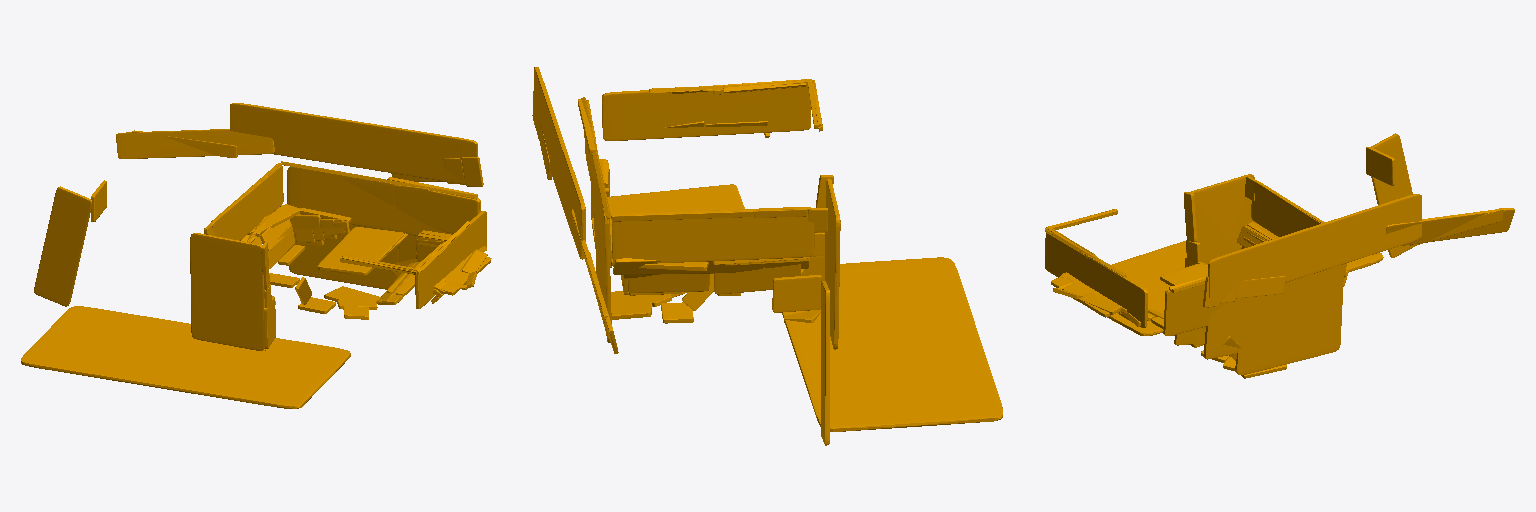
--- Render facts (derived) ---
The picture shows the robot from 3 angles, left to right: view 1: azimuth 30°, elevation 25°; view 2: azimuth 150°, elevation 25°; view 3: azimuth 270°, elevation 25°; orthographic projection.
Model scene with 1 links and 0 joints (none), rooted at scene_link, posed all joints at 0.
Visible links, largest first — view 1: scene_link; view 2: scene_link; view 3: scene_link.
Boxes of the visible links, x1,y1,x2,y2 form: scene_link: [21, 103, 491, 408]; scene_link: [532, 67, 1002, 445]; scene_link: [1045, 133, 1514, 378].
Bounding box of the posed robot: 5.03 × 4.82 × 1.78 m (x, y, z).
Meshes: 85 distinct files referenced, 85 mesh visuals loaded (85 OBJ).

URDF robot description (scene):
<?xml version='1.0' encoding='utf-8'?>
<robot name="scene"><link name="scene_link"><visual><origin xyz="0.000000 0.000000 0.000000" rpy="0.000000 -0.000000 0.000000" /><geometry><mesh filename="part_000.obj" /></geometry></visual><collision><origin xyz="0.000000 0.000000 0.000000" rpy="0.000000 -0.000000 0.000000" /><geometry><mesh filename="part_000.obj" /></geometry></collision><visual><origin xyz="0.000000 0.000000 0.000000" rpy="0.000000 -0.000000 0.000000" /><geometry><mesh filename="part_001.obj" /></geometry></visual><collision><origin xyz="0.000000 0.000000 0.000000" rpy="0.000000 -0.000000 0.000000" /><geometry><mesh filename="part_001.obj" /></geometry></collision><visual><origin xyz="0.000000 0.000000 0.000000" rpy="0.000000 -0.000000 0.000000" /><geometry><mesh filename="part_002.obj" /></geometry></visual><collision><origin xyz="0.000000 0.000000 0.000000" rpy="0.000000 -0.000000 0.000000" /><geometry><mesh filename="part_002.obj" /></geometry></collision><visual><origin xyz="0.000000 0.000000 0.000000" rpy="0.000000 -0.000000 0.000000" /><geometry><mesh filename="part_003.obj" /></geometry></visual><collision><origin xyz="0.000000 0.000000 0.000000" rpy="0.000000 -0.000000 0.000000" /><geometry><mesh filename="part_003.obj" /></geometry></collision><visual><origin xyz="0.000000 0.000000 0.000000" rpy="0.000000 -0.000000 0.000000" /><geometry><mesh filename="part_004.obj" /></geometry></visual><collision><origin xyz="0.000000 0.000000 0.000000" rpy="0.000000 -0.000000 0.000000" /><geometry><mesh filename="part_004.obj" /></geometry></collision><visual><origin xyz="0.000000 0.000000 0.000000" rpy="0.000000 -0.000000 0.000000" /><geometry><mesh filename="part_005.obj" /></geometry></visual><collision><origin xyz="0.000000 0.000000 0.000000" rpy="0.000000 -0.000000 0.000000" /><geometry><mesh filename="part_005.obj" /></geometry></collision><visual><origin xyz="0.000000 0.000000 0.000000" rpy="0.000000 -0.000000 0.000000" /><geometry><mesh filename="part_006.obj" /></geometry></visual><collision><origin xyz="0.000000 0.000000 0.000000" rpy="0.000000 -0.000000 0.000000" /><geometry><mesh filename="part_006.obj" /></geometry></collision><visual><origin xyz="0.000000 0.000000 0.000000" rpy="0.000000 -0.000000 0.000000" /><geometry><mesh filename="part_007.obj" /></geometry></visual><collision><origin xyz="0.000000 0.000000 0.000000" rpy="0.000000 -0.000000 0.000000" /><geometry><mesh filename="part_007.obj" /></geometry></collision><visual><origin xyz="0.000000 0.000000 0.000000" rpy="0.000000 -0.000000 0.000000" /><geometry><mesh filename="part_008.obj" /></geometry></visual><collision><origin xyz="0.000000 0.000000 0.000000" rpy="0.000000 -0.000000 0.000000" /><geometry><mesh filename="part_008.obj" /></geometry></collision><visual><origin xyz="0.000000 0.000000 0.000000" rpy="0.000000 -0.000000 0.000000" /><geometry><mesh filename="part_009.obj" /></geometry></visual><collision><origin xyz="0.000000 0.000000 0.000000" rpy="0.000000 -0.000000 0.000000" /><geometry><mesh filename="part_009.obj" /></geometry></collision><visual><origin xyz="0.000000 0.000000 0.000000" rpy="0.000000 -0.000000 0.000000" /><geometry><mesh filename="part_010.obj" /></geometry></visual><collision><origin xyz="0.000000 0.000000 0.000000" rpy="0.000000 -0.000000 0.000000" /><geometry><mesh filename="part_010.obj" /></geometry></collision><visual><origin xyz="0.000000 0.000000 0.000000" rpy="0.000000 -0.000000 0.000000" /><geometry><mesh filename="part_011.obj" /></geometry></visual><collision><origin xyz="0.000000 0.000000 0.000000" rpy="0.000000 -0.000000 0.000000" /><geometry><mesh filename="part_011.obj" /></geometry></collision><visual><origin xyz="0.000000 0.000000 0.000000" rpy="0.000000 -0.000000 0.000000" /><geometry><mesh filename="part_012.obj" /></geometry></visual><collision><origin xyz="0.000000 0.000000 0.000000" rpy="0.000000 -0.000000 0.000000" /><geometry><mesh filename="part_012.obj" /></geometry></collision><visual><origin xyz="0.000000 0.000000 0.000000" rpy="0.000000 -0.000000 0.000000" /><geometry><mesh filename="part_013.obj" /></geometry></visual><collision><origin xyz="0.000000 0.000000 0.000000" rpy="0.000000 -0.000000 0.000000" /><geometry><mesh filename="part_013.obj" /></geometry></collision><visual><origin xyz="0.000000 0.000000 0.000000" rpy="0.000000 -0.000000 0.000000" /><geometry><mesh filename="part_014.obj" /></geometry></visual><collision><origin xyz="0.000000 0.000000 0.000000" rpy="0.000000 -0.000000 0.000000" /><geometry><mesh filename="part_014.obj" /></geometry></collision><visual><origin xyz="0.000000 0.000000 0.000000" rpy="0.000000 -0.000000 0.000000" /><geometry><mesh filename="part_015.obj" /></geometry></visual><collision><origin xyz="0.000000 0.000000 0.000000" rpy="0.000000 -0.000000 0.000000" /><geometry><mesh filename="part_015.obj" /></geometry></collision><visual><origin xyz="0.000000 0.000000 0.000000" rpy="0.000000 -0.000000 0.000000" /><geometry><mesh filename="part_016.obj" /></geometry></visual><collision><origin xyz="0.000000 0.000000 0.000000" rpy="0.000000 -0.000000 0.000000" /><geometry><mesh filename="part_016.obj" /></geometry></collision><visual><origin xyz="0.000000 0.000000 0.000000" rpy="0.000000 -0.000000 0.000000" /><geometry><mesh filename="part_017.obj" /></geometry></visual><collision><origin xyz="0.000000 0.000000 0.000000" rpy="0.000000 -0.000000 0.000000" /><geometry><mesh filename="part_017.obj" /></geometry></collision><visual><origin xyz="0.000000 0.000000 0.000000" rpy="0.000000 -0.000000 0.000000" /><geometry><mesh filename="part_018.obj" /></geometry></visual><collision><origin xyz="0.000000 0.000000 0.000000" rpy="0.000000 -0.000000 0.000000" /><geometry><mesh filename="part_018.obj" /></geometry></collision><visual><origin xyz="0.000000 0.000000 0.000000" rpy="0.000000 -0.000000 0.000000" /><geometry><mesh filename="part_019.obj" /></geometry></visual><collision><origin xyz="0.000000 0.000000 0.000000" rpy="0.000000 -0.000000 0.000000" /><geometry><mesh filename="part_019.obj" /></geometry></collision><visual><origin xyz="0.000000 0.000000 0.000000" rpy="0.000000 -0.000000 0.000000" /><geometry><mesh filename="part_020.obj" /></geometry></visual><collision><origin xyz="0.000000 0.000000 0.000000" rpy="0.000000 -0.000000 0.000000" /><geometry><mesh filename="part_020.obj" /></geometry></collision><visual><origin xyz="0.000000 0.000000 0.000000" rpy="0.000000 -0.000000 0.000000" /><geometry><mesh filename="part_021.obj" /></geometry></visual><collision><origin xyz="0.000000 0.000000 0.000000" rpy="0.000000 -0.000000 0.000000" /><geometry><mesh filename="part_021.obj" /></geometry></collision><visual><origin xyz="0.000000 0.000000 0.000000" rpy="0.000000 -0.000000 0.000000" /><geometry><mesh filename="part_022.obj" /></geometry></visual><collision><origin xyz="0.000000 0.000000 0.000000" rpy="0.000000 -0.000000 0.000000" /><geometry><mesh filename="part_022.obj" /></geometry></collision><visual><origin xyz="0.000000 0.000000 0.000000" rpy="0.000000 -0.000000 0.000000" /><geometry><mesh filename="part_023.obj" /></geometry></visual><collision><origin xyz="0.000000 0.000000 0.000000" rpy="0.000000 -0.000000 0.000000" /><geometry><mesh filename="part_023.obj" /></geometry></collision><visual><origin xyz="0.000000 0.000000 0.000000" rpy="0.000000 -0.000000 0.000000" /><geometry><mesh filename="part_024.obj" /></geometry></visual><collision><origin xyz="0.000000 0.000000 0.000000" rpy="0.000000 -0.000000 0.000000" /><geometry><mesh filename="part_024.obj" /></geometry></collision><visual><origin xyz="0.000000 0.000000 0.000000" rpy="0.000000 -0.000000 0.000000" /><geometry><mesh filename="part_025.obj" /></geometry></visual><collision><origin xyz="0.000000 0.000000 0.000000" rpy="0.000000 -0.000000 0.000000" /><geometry><mesh filename="part_025.obj" /></geometry></collision><visual><origin xyz="0.000000 0.000000 0.000000" rpy="0.000000 -0.000000 0.000000" /><geometry><mesh filename="part_026.obj" /></geometry></visual><collision><origin xyz="0.000000 0.000000 0.000000" rpy="0.000000 -0.000000 0.000000" /><geometry><mesh filename="part_026.obj" /></geometry></collision><visual><origin xyz="0.000000 0.000000 0.000000" rpy="0.000000 -0.000000 0.000000" /><geometry><mesh filename="part_027.obj" /></geometry></visual><collision><origin xyz="0.000000 0.000000 0.000000" rpy="0.000000 -0.000000 0.000000" /><geometry><mesh filename="part_027.obj" /></geometry></collision><visual><origin xyz="0.000000 0.000000 0.000000" rpy="0.000000 -0.000000 0.000000" /><geometry><mesh filename="part_028.obj" /></geometry></visual><collision><origin xyz="0.000000 0.000000 0.000000" rpy="0.000000 -0.000000 0.000000" /><geometry><mesh filename="part_028.obj" /></geometry></collision><visual><origin xyz="0.000000 0.000000 0.000000" rpy="0.000000 -0.000000 0.000000" /><geometry><mesh filename="part_029.obj" /></geometry></visual><collision><origin xyz="0.000000 0.000000 0.000000" rpy="0.000000 -0.000000 0.000000" /><geometry><mesh filename="part_029.obj" /></geometry></collision><visual><origin xyz="0.000000 0.000000 0.000000" rpy="0.000000 -0.000000 0.000000" /><geometry><mesh filename="part_030.obj" /></geometry></visual><collision><origin xyz="0.000000 0.000000 0.000000" rpy="0.000000 -0.000000 0.000000" /><geometry><mesh filename="part_030.obj" /></geometry></collision><visual><origin xyz="0.000000 0.000000 0.000000" rpy="0.000000 -0.000000 0.000000" /><geometry><mesh filename="part_031.obj" /></geometry></visual><collision><origin xyz="0.000000 0.000000 0.000000" rpy="0.000000 -0.000000 0.000000" /><geometry><mesh filename="part_031.obj" /></geometry></collision><visual><origin xyz="0.000000 0.000000 0.000000" rpy="0.000000 -0.000000 0.000000" /><geometry><mesh filename="part_032.obj" /></geometry></visual><collision><origin xyz="0.000000 0.000000 0.000000" rpy="0.000000 -0.000000 0.000000" /><geometry><mesh filename="part_032.obj" /></geometry></collision><visual><origin xyz="0.000000 0.000000 0.000000" rpy="0.000000 -0.000000 0.000000" /><geometry><mesh filename="part_033.obj" /></geometry></visual><collision><origin xyz="0.000000 0.000000 0.000000" rpy="0.000000 -0.000000 0.000000" /><geometry><mesh filename="part_033.obj" /></geometry></collision><visual><origin xyz="0.000000 0.000000 0.000000" rpy="0.000000 -0.000000 0.000000" /><geometry><mesh filename="part_034.obj" /></geometry></visual><collision><origin xyz="0.000000 0.000000 0.000000" rpy="0.000000 -0.000000 0.000000" /><geometry><mesh filename="part_034.obj" /></geometry></collision><visual><origin xyz="0.000000 0.000000 0.000000" rpy="0.000000 -0.000000 0.000000" /><geometry><mesh filename="part_035.obj" /></geometry></visual><collision><origin xyz="0.000000 0.000000 0.000000" rpy="0.000000 -0.000000 0.000000" /><geometry><mesh filename="part_035.obj" /></geometry></collision><visual><origin xyz="0.000000 0.000000 0.000000" rpy="0.000000 -0.000000 0.000000" /><geometry><mesh filename="part_036.obj" /></geometry></visual><collision><origin xyz="0.000000 0.000000 0.000000" rpy="0.000000 -0.000000 0.000000" /><geometry><mesh filename="part_036.obj" /></geometry></collision><visual><origin xyz="0.000000 0.000000 0.000000" rpy="0.000000 -0.000000 0.000000" /><geometry><mesh filename="part_037.obj" /></geometry></visual><collision><origin xyz="0.000000 0.000000 0.000000" rpy="0.000000 -0.000000 0.000000" /><geometry><mesh filename="part_037.obj" /></geometry></collision><visual><origin xyz="0.000000 0.000000 0.000000" rpy="0.000000 -0.000000 0.000000" /><geometry><mesh filename="part_038.obj" /></geometry></visual><collision><origin xyz="0.000000 0.000000 0.000000" rpy="0.000000 -0.000000 0.000000" /><geometry><mesh filename="part_038.obj" /></geometry></collision><visual><origin xyz="0.000000 0.000000 0.000000" rpy="0.000000 -0.000000 0.000000" /><geometry><mesh filename="part_039.obj" /></geometry></visual><collision><origin xyz="0.000000 0.000000 0.000000" rpy="0.000000 -0.000000 0.000000" /><geometry><mesh filename="part_039.obj" /></geometry></collision><visual><origin xyz="0.000000 0.000000 0.000000" rpy="0.000000 -0.000000 0.000000" /><geometry><mesh filename="part_040.obj" /></geometry></visual><collision><origin xyz="0.000000 0.000000 0.000000" rpy="0.000000 -0.000000 0.000000" /><geometry><mesh filename="part_040.obj" /></geometry></collision><visual><origin xyz="0.000000 0.000000 0.000000" rpy="0.000000 -0.000000 0.000000" /><geometry><mesh filename="part_041.obj" /></geometry></visual><collision><origin xyz="0.000000 0.000000 0.000000" rpy="0.000000 -0.000000 0.000000" /><geometry><mesh filename="part_041.obj" /></geometry></collision><visual><origin xyz="0.000000 0.000000 0.000000" rpy="0.000000 -0.000000 0.000000" /><geometry><mesh filename="part_042.obj" /></geometry></visual><collision><origin xyz="0.000000 0.000000 0.000000" rpy="0.000000 -0.000000 0.000000" /><geometry><mesh filename="part_042.obj" /></geometry></collision><visual><origin xyz="0.000000 0.000000 0.000000" rpy="0.000000 -0.000000 0.000000" /><geometry><mesh filename="part_043.obj" /></geometry></visual><collision><origin xyz="0.000000 0.000000 0.000000" rpy="0.000000 -0.000000 0.000000" /><geometry><mesh filename="part_043.obj" /></geometry></collision><visual><origin xyz="0.000000 0.000000 0.000000" rpy="0.000000 -0.000000 0.000000" /><geometry><mesh filename="part_044.obj" /></geometry></visual><collision><origin xyz="0.000000 0.000000 0.000000" rpy="0.000000 -0.000000 0.000000" /><geometry><mesh filename="part_044.obj" /></geometry></collision><visual><origin xyz="0.000000 0.000000 0.000000" rpy="0.000000 -0.000000 0.000000" /><geometry><mesh filename="part_045.obj" /></geometry></visual><collision><origin xyz="0.000000 0.000000 0.000000" rpy="0.000000 -0.000000 0.000000" /><geometry><mesh filename="part_045.obj" /></geometry></collision><visual><origin xyz="0.000000 0.000000 0.000000" rpy="0.000000 -0.000000 0.000000" /><geometry><mesh filename="part_046.obj" /></geometry></visual><collision><origin xyz="0.000000 0.000000 0.000000" rpy="0.000000 -0.000000 0.000000" /><geometry><mesh filename="part_046.obj" /></geometry></collision><visual><origin xyz="0.000000 0.000000 0.000000" rpy="0.000000 -0.000000 0.000000" /><geometry><mesh filename="part_047.obj" /></geometry></visual><collision><origin xyz="0.000000 0.000000 0.000000" rpy="0.000000 -0.000000 0.000000" /><geometry><mesh filename="part_047.obj" /></geometry></collision><visual><origin xyz="0.000000 0.000000 0.000000" rpy="0.000000 -0.000000 0.000000" /><geometry><mesh filename="part_048.obj" /></geometry></visual><collision><origin xyz="0.000000 0.000000 0.000000" rpy="0.000000 -0.000000 0.000000" /><geometry><mesh filename="part_048.obj" /></geometry></collision><visual><origin xyz="0.000000 0.000000 0.000000" rpy="0.000000 -0.000000 0.000000" /><geometry><mesh filename="part_049.obj" /></geometry></visual><collision><origin xyz="0.000000 0.000000 0.000000" rpy="0.000000 -0.000000 0.000000" /><geometry><mesh filename="part_049.obj" /></geometry></collision><visual><origin xyz="0.000000 0.000000 0.000000" rpy="0.000000 -0.000000 0.000000" /><geometry><mesh filename="part_050.obj" /></geometry></visual><collision><origin xyz="0.000000 0.000000 0.000000" rpy="0.000000 -0.000000 0.000000" /><geometry><mesh filename="part_050.obj" /></geometry></collision><visual><origin xyz="0.000000 0.000000 0.000000" rpy="0.000000 -0.000000 0.000000" /><geometry><mesh filename="part_051.obj" /></geometry></visual><collision><origin xyz="0.000000 0.000000 0.000000" rpy="0.000000 -0.000000 0.000000" /><geometry><mesh filename="part_051.obj" /></geometry></collision><visual><origin xyz="0.000000 0.000000 0.000000" rpy="0.000000 -0.000000 0.000000" /><geometry><mesh filename="part_052.obj" /></geometry></visual><collision><origin xyz="0.000000 0.000000 0.000000" rpy="0.000000 -0.000000 0.000000" /><geometry><mesh filename="part_052.obj" /></geometry></collision><visual><origin xyz="0.000000 0.000000 0.000000" rpy="0.000000 -0.000000 0.000000" /><geometry><mesh filename="part_053.obj" /></geometry></visual><collision><origin xyz="0.000000 0.000000 0.000000" rpy="0.000000 -0.000000 0.000000" /><geometry><mesh filename="part_053.obj" /></geometry></collision><visual><origin xyz="0.000000 0.000000 0.000000" rpy="0.000000 -0.000000 0.000000" /><geometry><mesh filename="part_054.obj" /></geometry></visual><collision><origin xyz="0.000000 0.000000 0.000000" rpy="0.000000 -0.000000 0.000000" /><geometry><mesh filename="part_054.obj" /></geometry></collision><visual><origin xyz="0.000000 0.000000 0.000000" rpy="0.000000 -0.000000 0.000000" /><geometry><mesh filename="part_055.obj" /></geometry></visual><collision><origin xyz="0.000000 0.000000 0.000000" rpy="0.000000 -0.000000 0.000000" /><geometry><mesh filename="part_055.obj" /></geometry></collision><visual><origin xyz="0.000000 0.000000 0.000000" rpy="0.000000 -0.000000 0.000000" /><geometry><mesh filename="part_056.obj" /></geometry></visual><collision><origin xyz="0.000000 0.000000 0.000000" rpy="0.000000 -0.000000 0.000000" /><geometry><mesh filename="part_056.obj" /></geometry></collision><visual><origin xyz="0.000000 0.000000 0.000000" rpy="0.000000 -0.000000 0.000000" /><geometry><mesh filename="part_057.obj" /></geometry></visual><collision><origin xyz="0.000000 0.000000 0.000000" rpy="0.000000 -0.000000 0.000000" /><geometry><mesh filename="part_057.obj" /></geometry></collision><visual><origin xyz="0.000000 0.000000 0.000000" rpy="0.000000 -0.000000 0.000000" /><geometry><mesh filename="part_058.obj" /></geometry></visual><collision><origin xyz="0.000000 0.000000 0.000000" rpy="0.000000 -0.000000 0.000000" /><geometry><mesh filename="part_058.obj" /></geometry></collision><visual><origin xyz="0.000000 0.000000 0.000000" rpy="0.000000 -0.000000 0.000000" /><geometry><mesh filename="part_059.obj" /></geometry></visual><collision><origin xyz="0.000000 0.000000 0.000000" rpy="0.000000 -0.000000 0.000000" /><geometry><mesh filename="part_059.obj" /></geometry></collision><visual><origin xyz="0.000000 0.000000 0.000000" rpy="0.000000 -0.000000 0.000000" /><geometry><mesh filename="part_060.obj" /></geometry></visual><collision><origin xyz="0.000000 0.000000 0.000000" rpy="0.000000 -0.000000 0.000000" /><geometry><mesh filename="part_060.obj" /></geometry></collision><visual><origin xyz="0.000000 0.000000 0.000000" rpy="0.000000 -0.000000 0.000000" /><geometry><mesh filename="part_061.obj" /></geometry></visual><collision><origin xyz="0.000000 0.000000 0.000000" rpy="0.000000 -0.000000 0.000000" /><geometry><mesh filename="part_061.obj" /></geometry></collision><visual><origin xyz="0.000000 0.000000 0.000000" rpy="0.000000 -0.000000 0.000000" /><geometry><mesh filename="part_062.obj" /></geometry></visual><collision><origin xyz="0.000000 0.000000 0.000000" rpy="0.000000 -0.000000 0.000000" /><geometry><mesh filename="part_062.obj" /></geometry></collision><visual><origin xyz="0.000000 0.000000 0.000000" rpy="0.000000 -0.000000 0.000000" /><geometry><mesh filename="part_063.obj" /></geometry></visual><collision><origin xyz="0.000000 0.000000 0.000000" rpy="0.000000 -0.000000 0.000000" /><geometry><mesh filename="part_063.obj" /></geometry></collision><visual><origin xyz="0.000000 0.000000 0.000000" rpy="0.000000 -0.000000 0.000000" /><geometry><mesh filename="part_064.obj" /></geometry></visual><collision><origin xyz="0.000000 0.000000 0.000000" rpy="0.000000 -0.000000 0.000000" /><geometry><mesh filename="part_064.obj" /></geometry></collision><visual><origin xyz="0.000000 0.000000 0.000000" rpy="0.000000 -0.000000 0.000000" /><geometry><mesh filename="part_065.obj" /></geometry></visual><collision><origin xyz="0.000000 0.000000 0.000000" rpy="0.000000 -0.000000 0.000000" /><geometry><mesh filename="part_065.obj" /></geometry></collision><visual><origin xyz="0.000000 0.000000 0.000000" rpy="0.000000 -0.000000 0.000000" /><geometry><mesh filename="part_066.obj" /></geometry></visual><collision><origin xyz="0.000000 0.000000 0.000000" rpy="0.000000 -0.000000 0.000000" /><geometry><mesh filename="part_066.obj" /></geometry></collision><visual><origin xyz="0.000000 0.000000 0.000000" rpy="0.000000 -0.000000 0.000000" /><geometry><mesh filename="part_067.obj" /></geometry></visual><collision><origin xyz="0.000000 0.000000 0.000000" rpy="0.000000 -0.000000 0.000000" /><geometry><mesh filename="part_067.obj" /></geometry></collision><visual><origin xyz="0.000000 0.000000 0.000000" rpy="0.000000 -0.000000 0.000000" /><geometry><mesh filename="part_068.obj" /></geometry></visual><collision><origin xyz="0.000000 0.000000 0.000000" rpy="0.000000 -0.000000 0.000000" /><geometry><mesh filename="part_068.obj" /></geometry></collision><visual><origin xyz="0.000000 0.000000 0.000000" rpy="0.000000 -0.000000 0.000000" /><geometry><mesh filename="part_069.obj" /></geometry></visual><collision><origin xyz="0.000000 0.000000 0.000000" rpy="0.000000 -0.000000 0.000000" /><geometry><mesh filename="part_069.obj" /></geometry></collision><visual><origin xyz="0.000000 0.000000 0.000000" rpy="0.000000 -0.000000 0.000000" /><geometry><mesh filename="part_070.obj" /></geometry></visual><collision><origin xyz="0.000000 0.000000 0.000000" rpy="0.000000 -0.000000 0.000000" /><geometry><mesh filename="part_070.obj" /></geometry></collision><visual><origin xyz="0.000000 0.000000 0.000000" rpy="0.000000 -0.000000 0.000000" /><geometry><mesh filename="part_071.obj" /></geometry></visual><collision><origin xyz="0.000000 0.000000 0.000000" rpy="0.000000 -0.000000 0.000000" /><geometry><mesh filename="part_071.obj" /></geometry></collision><visual><origin xyz="0.000000 0.000000 0.000000" rpy="0.000000 -0.000000 0.000000" /><geometry><mesh filename="part_072.obj" /></geometry></visual><collision><origin xyz="0.000000 0.000000 0.000000" rpy="0.000000 -0.000000 0.000000" /><geometry><mesh filename="part_072.obj" /></geometry></collision><visual><origin xyz="0.000000 0.000000 0.000000" rpy="0.000000 -0.000000 0.000000" /><geometry><mesh filename="part_073.obj" /></geometry></visual><collision><origin xyz="0.000000 0.000000 0.000000" rpy="0.000000 -0.000000 0.000000" /><geometry><mesh filename="part_073.obj" /></geometry></collision><visual><origin xyz="0.000000 0.000000 0.000000" rpy="0.000000 -0.000000 0.000000" /><geometry><mesh filename="part_074.obj" /></geometry></visual><collision><origin xyz="0.000000 0.000000 0.000000" rpy="0.000000 -0.000000 0.000000" /><geometry><mesh filename="part_074.obj" /></geometry></collision><visual><origin xyz="0.000000 0.000000 0.000000" rpy="0.000000 -0.000000 0.000000" /><geometry><mesh filename="part_075.obj" /></geometry></visual><collision><origin xyz="0.000000 0.000000 0.000000" rpy="0.000000 -0.000000 0.000000" /><geometry><mesh filename="part_075.obj" /></geometry></collision><visual><origin xyz="0.000000 0.000000 0.000000" rpy="0.000000 -0.000000 0.000000" /><geometry><mesh filename="part_076.obj" /></geometry></visual><collision><origin xyz="0.000000 0.000000 0.000000" rpy="0.000000 -0.000000 0.000000" /><geometry><mesh filename="part_076.obj" /></geometry></collision><visual><origin xyz="0.000000 0.000000 0.000000" rpy="0.000000 -0.000000 0.000000" /><geometry><mesh filename="part_077.obj" /></geometry></visual><collision><origin xyz="0.000000 0.000000 0.000000" rpy="0.000000 -0.000000 0.000000" /><geometry><mesh filename="part_077.obj" /></geometry></collision><visual><origin xyz="0.000000 0.000000 0.000000" rpy="0.000000 -0.000000 0.000000" /><geometry><mesh filename="part_078.obj" /></geometry></visual><collision><origin xyz="0.000000 0.000000 0.000000" rpy="0.000000 -0.000000 0.000000" /><geometry><mesh filename="part_078.obj" /></geometry></collision><visual><origin xyz="0.000000 0.000000 0.000000" rpy="0.000000 -0.000000 0.000000" /><geometry><mesh filename="part_079.obj" /></geometry></visual><collision><origin xyz="0.000000 0.000000 0.000000" rpy="0.000000 -0.000000 0.000000" /><geometry><mesh filename="part_079.obj" /></geometry></collision><visual><origin xyz="0.000000 0.000000 0.000000" rpy="0.000000 -0.000000 0.000000" /><geometry><mesh filename="part_080.obj" /></geometry></visual><collision><origin xyz="0.000000 0.000000 0.000000" rpy="0.000000 -0.000000 0.000000" /><geometry><mesh filename="part_080.obj" /></geometry></collision><visual><origin xyz="0.000000 0.000000 0.000000" rpy="0.000000 -0.000000 0.000000" /><geometry><mesh filename="part_081.obj" /></geometry></visual><collision><origin xyz="0.000000 0.000000 0.000000" rpy="0.000000 -0.000000 0.000000" /><geometry><mesh filename="part_081.obj" /></geometry></collision><visual><origin xyz="0.000000 0.000000 0.000000" rpy="0.000000 -0.000000 0.000000" /><geometry><mesh filename="part_082.obj" /></geometry></visual><collision><origin xyz="0.000000 0.000000 0.000000" rpy="0.000000 -0.000000 0.000000" /><geometry><mesh filename="part_082.obj" /></geometry></collision><visual><origin xyz="0.000000 0.000000 0.000000" rpy="0.000000 -0.000000 0.000000" /><geometry><mesh filename="part_083.obj" /></geometry></visual><collision><origin xyz="0.000000 0.000000 0.000000" rpy="0.000000 -0.000000 0.000000" /><geometry><mesh filename="part_083.obj" /></geometry></collision><visual><origin xyz="0.000000 0.000000 0.000000" rpy="0.000000 -0.000000 0.000000" /><geometry><mesh filename="part_084.obj" /></geometry></visual><collision><origin xyz="0.000000 0.000000 0.000000" rpy="0.000000 -0.000000 0.000000" /><geometry><mesh filename="part_084.obj" /></geometry></collision></link></robot>
